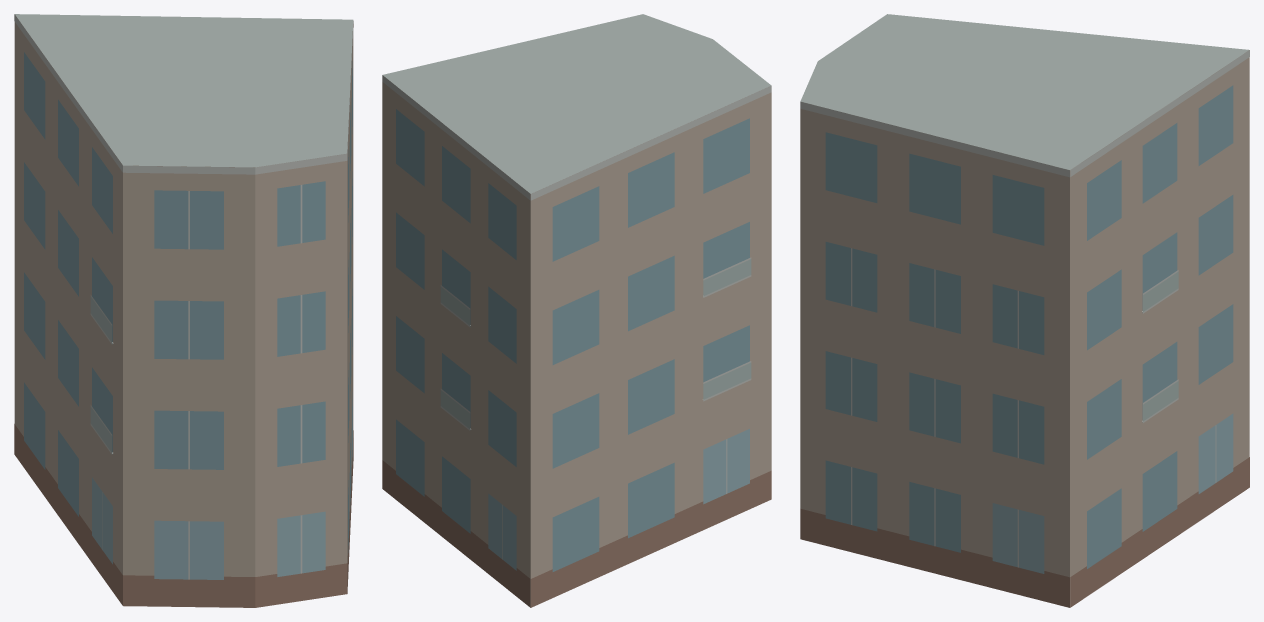
The model's file is survey-upis-32940729.glb.
The picture shows the model from 3 angles, left to right: view 1: azimuth 30°, elevation 25°; view 2: azimuth 150°, elevation 25°; view 3: azimuth 270°, elevation 25°; orthographic projection. The views are drawn at different scales.
Visible parts, largest first — view 1: survey-upis-32940729.tmp; view 2: survey-upis-32940729.tmp; view 3: survey-upis-32940729.tmp.
Boxes of the visible parts, left/top/right/bottom form: survey-upis-32940729.tmp: left=14, top=14, right=353, bottom=607; survey-upis-32940729.tmp: left=382, top=14, right=771, bottom=607; survey-upis-32940729.tmp: left=800, top=14, right=1249, bottom=607.
Bounding box in the file's own units: 11.42 × 14.9 × 13.88.
